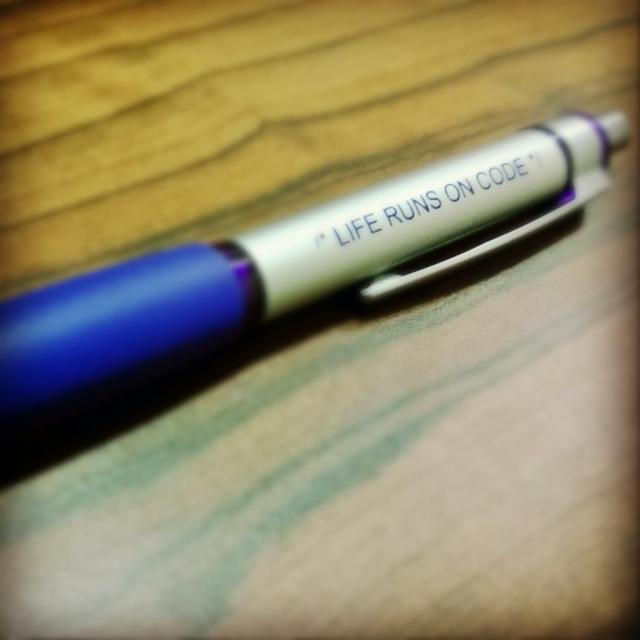pen: (0, 109, 636, 412)
